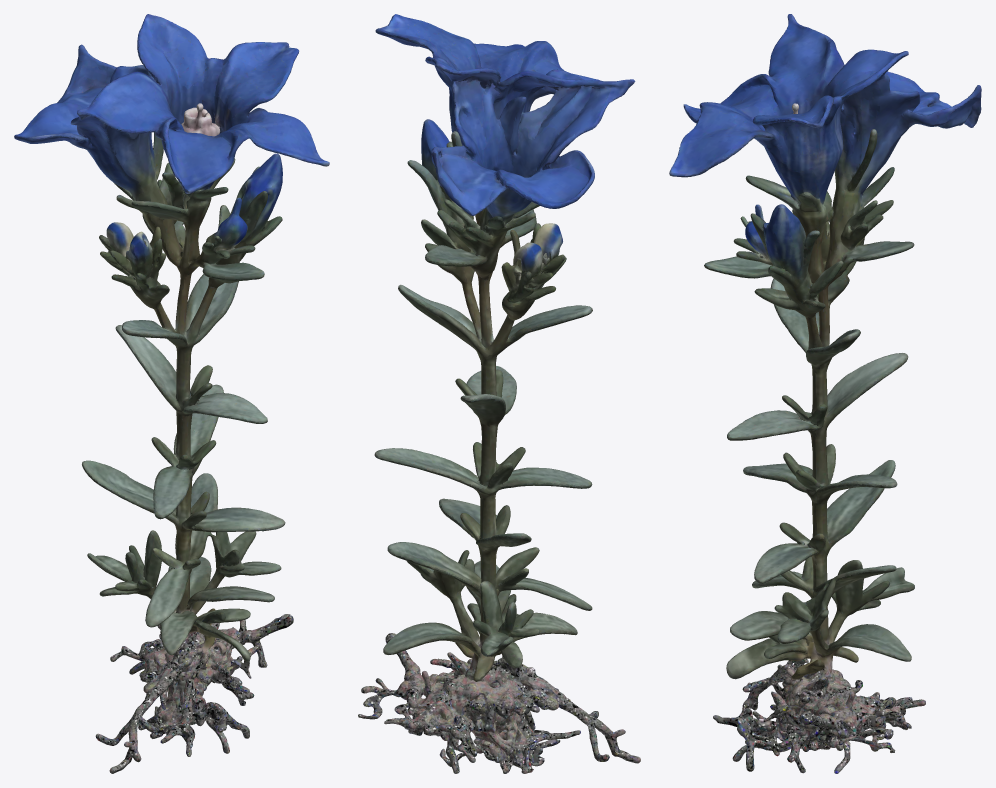
The model's file is cand-4916792.glb.
The picture shows the model from 3 angles, left to right: view 1: azimuth 30°, elevation 25°; view 2: azimuth 150°, elevation 25°; view 3: azimuth 270°, elevation 25°; orthographic projection. The views are drawn at different scales.
Parts seen in each view (by area): view 1: world; view 2: world; view 3: world.
Boxes of the visible parts, x1,y1,x2,y2 form: world: (14,14,329,773); world: (358,14,640,773); world: (669,14,981,773).
Bounding box in the file's own units: 0.0896 × 0.25 × 0.0994.
Materials: 1 (1 with a texture image).
